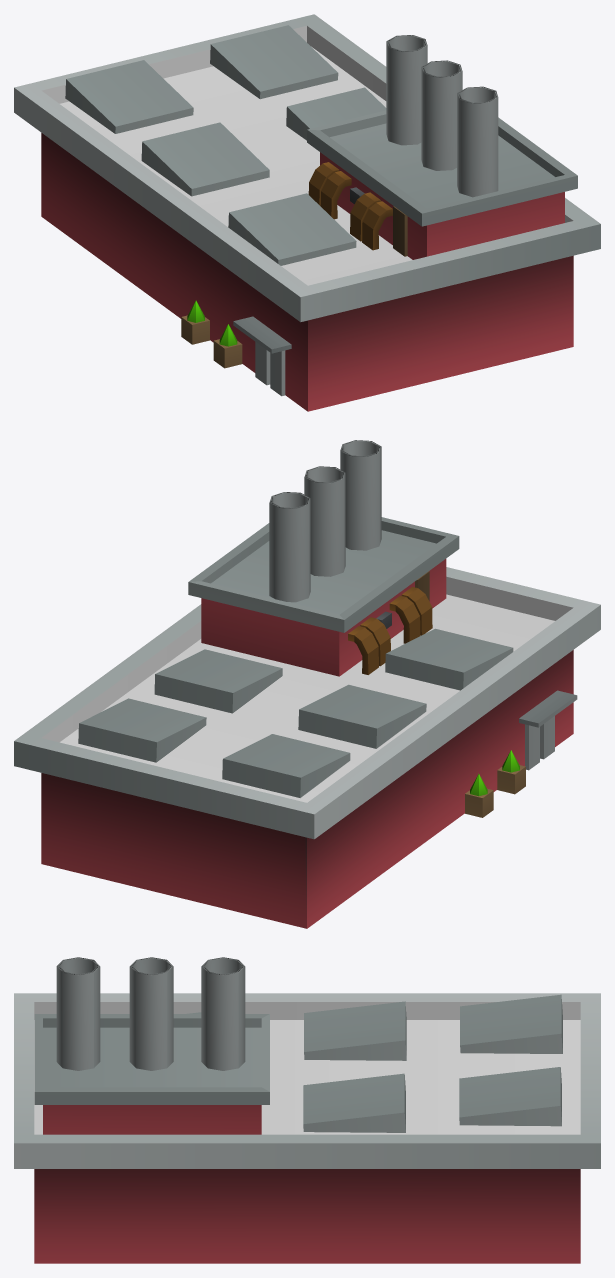
File: Meringa.fbx
The picture shows the model from 3 angles, top to bottom: view 1: azimuth 30°, elevation 25°; view 2: azimuth 150°, elevation 25°; view 3: azimuth 270°, elevation 25°; orthographic projection. The views are drawn at different scales.
Parts seen in each view (by area): view 1: polySurface54; view 2: polySurface54; view 3: polySurface54.
Part boxes in pixels (<box>): polySurface54: <box>14,14,600,411</box>; polySurface54: <box>14,440,600,928</box>; polySurface54: <box>14,957,600,1263</box>.
Size of the model in its own units: 12.24 by 9.82 by 20.06.
